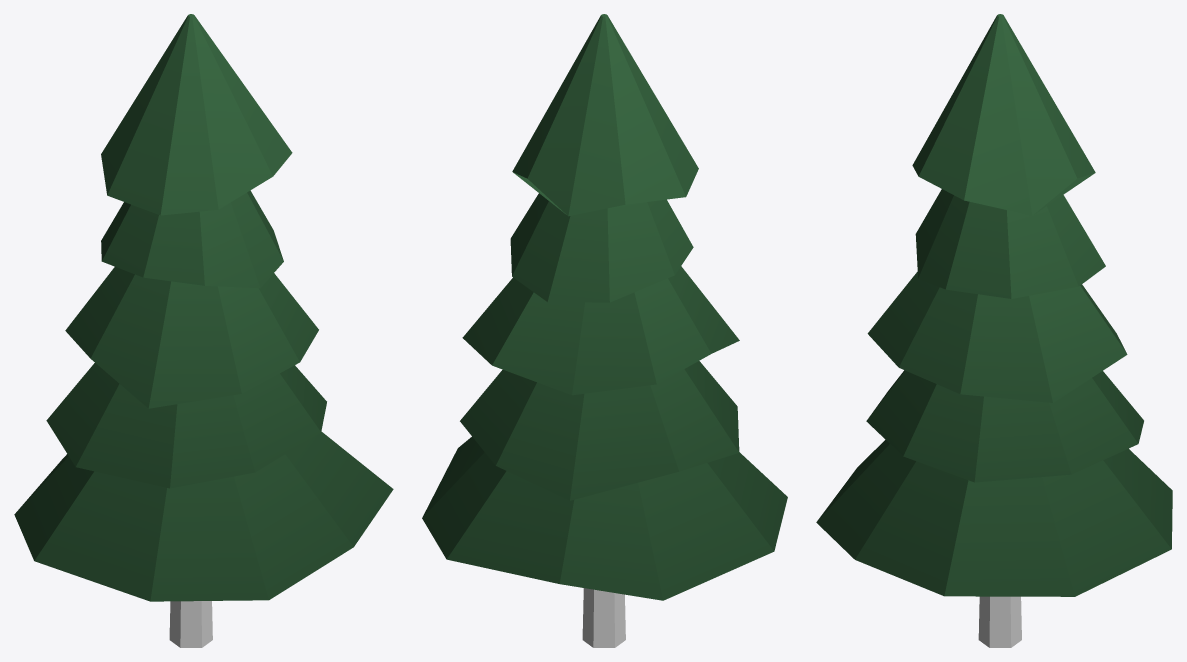
Rendered from pine_b.glb.
3 renders of one model, left to right at view 1: azimuth 30°, elevation 25°; view 2: azimuth 150°, elevation 25°; view 3: azimuth 270°, elevation 25°, orthographic.
Visible parts, largest first — view 1: Canopy_deco, Trunk; view 2: Canopy_deco, Trunk; view 3: Canopy_deco, Trunk.
Boxes of the visible parts, x1=… form: Canopy_deco: x1=14, y1=14, x2=393, y2=601; Trunk: x1=169, y1=601, x2=212, y2=647; Canopy_deco: x1=422, y1=14, x2=787, y2=600; Trunk: x1=582, y1=588, x2=625, y2=647; Canopy_deco: x1=816, y1=14, x2=1172, y2=596; Trunk: x1=978, y1=596, x2=1021, y2=647.
Bounding box in the file's own units: 4.68 × 8.26 × 4.27.
